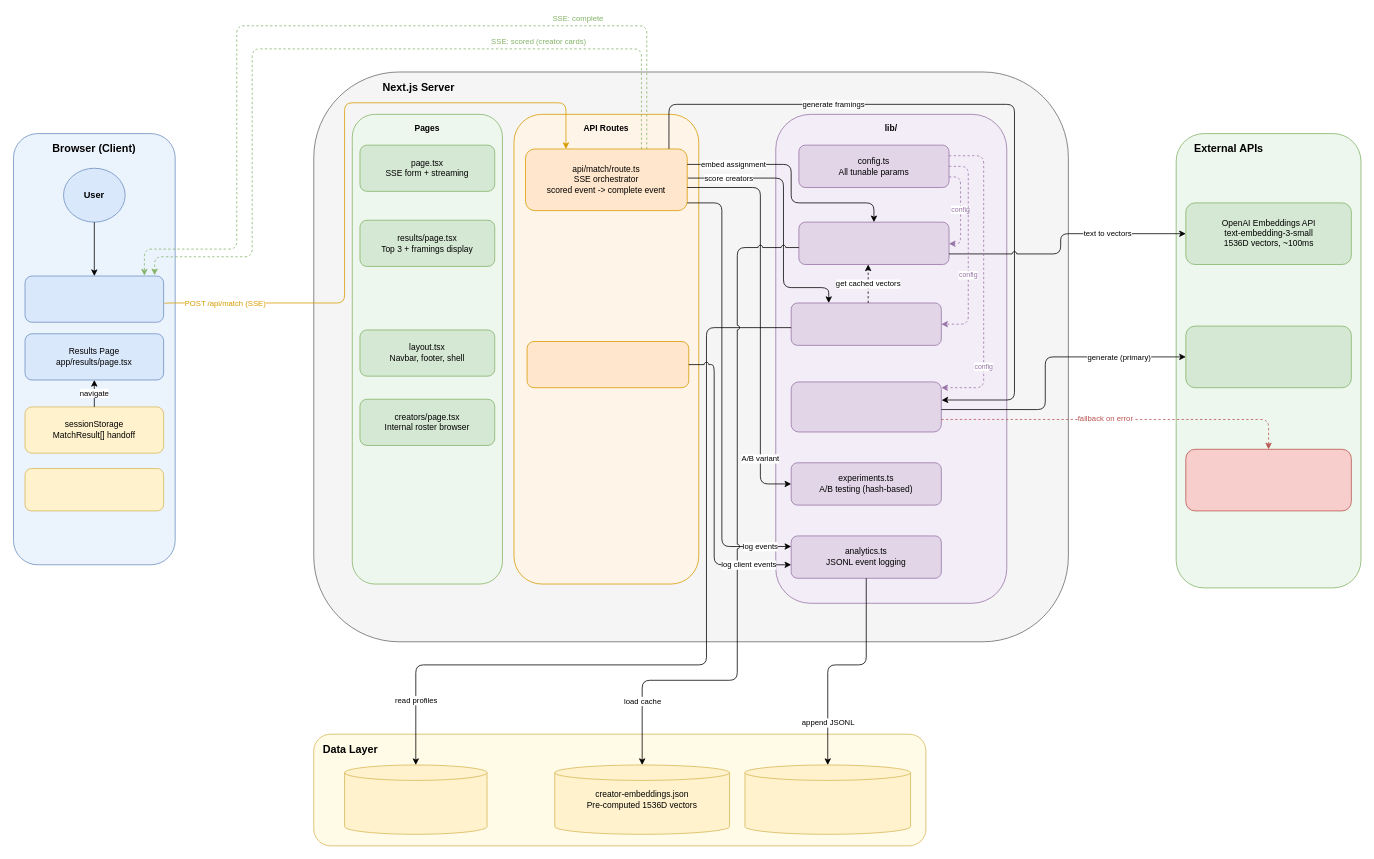
The diagram is 1374 pixels wide and 859 high, and some of its shapes have lost their labels. The centre of each missing label's shape, as x and y in pixels:
"Anthropic Claude API claude-haiku-4-5-20251001 Primary framing LLM, ~2-4s" belongs at (x=1268, y=356).
"api/events/route.ts Client analytics ingestion" belongs at (x=607, y=364).
"Assignment Form app/page.tsx" belongs at (x=94, y=298).
"claude.ts LLM framing + fallback" belongs at (x=865, y=406).
"creators.json 16 creator profiles" belongs at (x=415, y=799).
"db_sid cookie session tracking" belongs at (x=94, y=489).
"embeddings.ts OpenAI embedding + cache" belongs at (x=873, y=242).
"events.jsonl Structured event log" belongs at (x=827, y=799).
"OpenAI Chat API gpt-4o-mini Fallback on Claude error" belongs at (x=1268, y=480).
"scoring.ts Multi-signal cosine ranking" belongs at (x=865, y=323).
